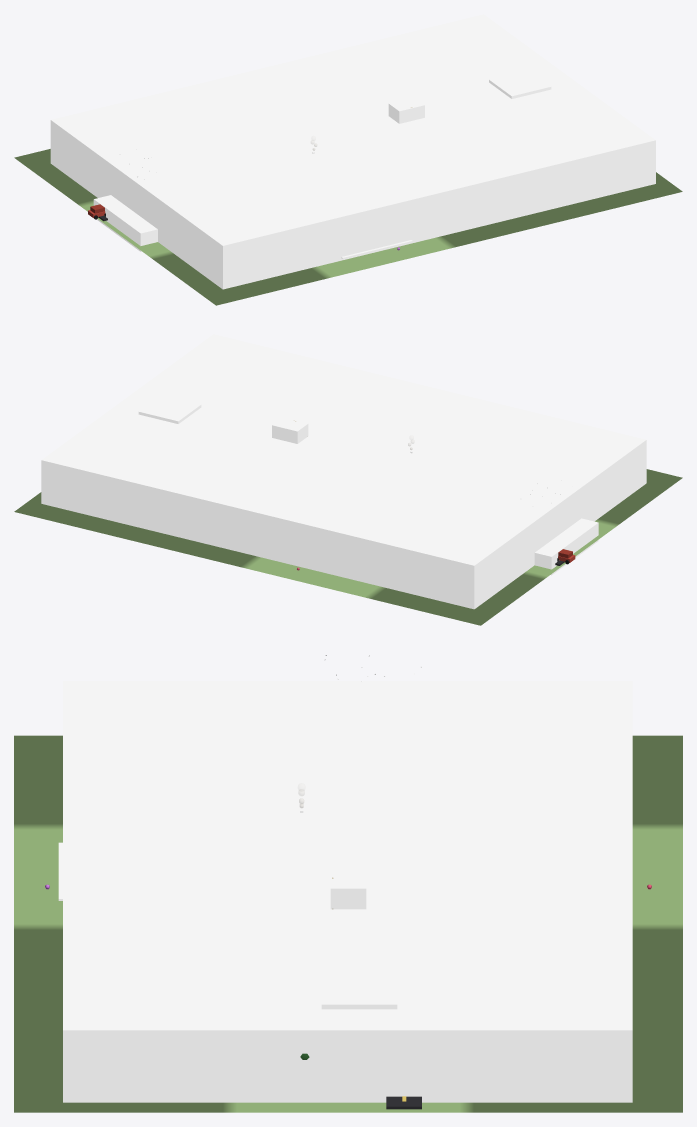
Rendered from diorama.glb.
The picture shows the model from 3 angles, top to bottom: view 1: azimuth 30°, elevation 25°; view 2: azimuth 150°, elevation 25°; view 3: azimuth 270°, elevation 25°; orthographic projection. The views are drawn at different scales.
Visible parts, largest first — view 1: _col_trees, terrain, _col_rocks, _col_well, _col_windmill; view 2: _col_trees, terrain, _col_rocks, _col_well, _col_windmill; view 3: _col_trees, terrain, _col_well, _col_windmill.
Part boxes in pixels (<box>): _col_trees: <box>50,14,655,289</box>; terrain: <box>14,149,682,305</box>; _col_rocks: <box>93,195,157,251</box>; _col_well: <box>489,70,551,98</box>; _col_windmill: <box>388,97,424,123</box>; _col_trees: <box>41,334,646,609</box>; terrain: <box>14,469,682,625</box>; _col_rocks: <box>534,518,598,575</box>; _col_well: <box>138,395,201,423</box>; _col_windmill: <box>272,417,308,443</box>; _col_trees: <box>63,681,632,1102</box>; terrain: <box>14,735,682,1112</box>; _col_well: <box>321,972,397,1009</box>; _col_windmill: <box>330,867,366,909</box>.
Bounding box in the file's own units: 8.13 × 1.1 × 6.
